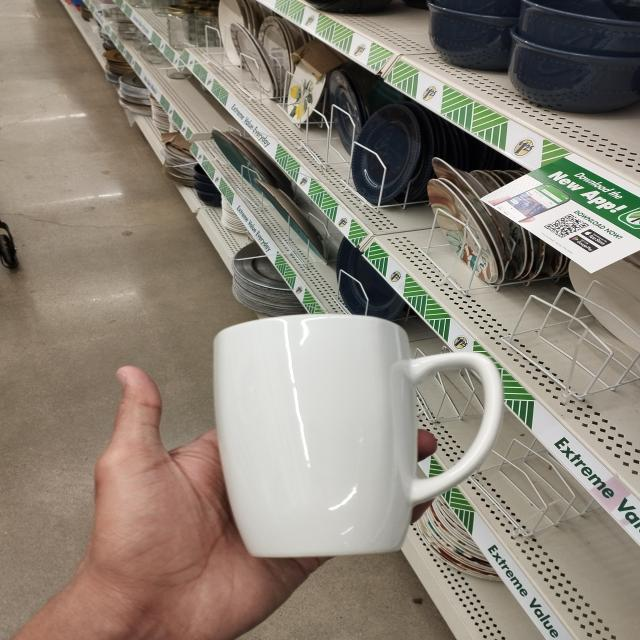Cup: (190, 302, 527, 564)
